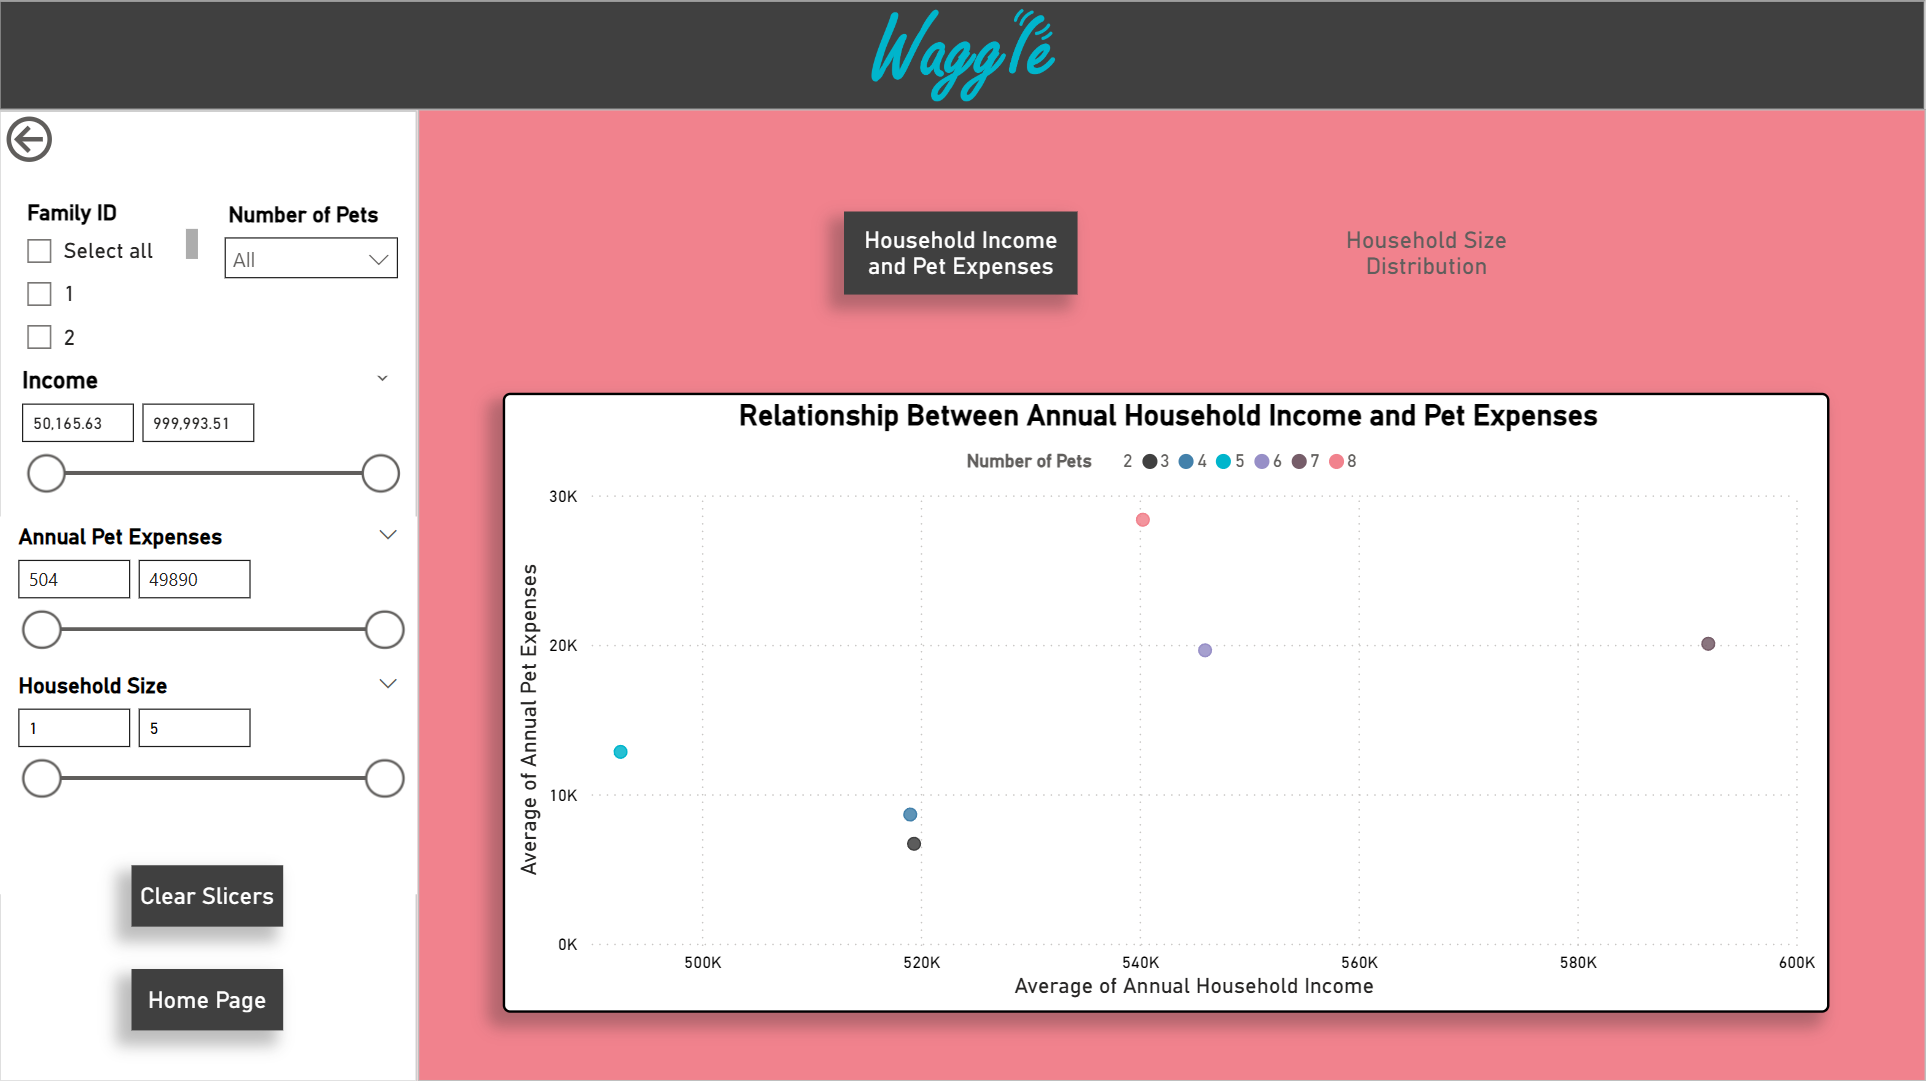

What the dashboard file says about the page in this screenshot:
{"tool":"powerbi","page":{"name":"Families Info","canvas":[1280,720],"ordinal":2},"visuals":[{"type":"group","id":"g1","title":"Background/Banner","box":[0,1,1280.2,719.2],"z":0},{"type":"shape","box":[277.9,73.5,1002.3,646.2],"z":0,"group":"g1"},{"type":"slicer","fields":{"Values":["Family_Data.Household_Income"]},"box":[2.9,239.7,271.7,153.7],"z":0,"group":"g2"},{"type":"shape","box":[0,1,1280,73],"z":1000,"group":"g1"},{"type":"group","id":"g2","title":"Slicers Side","box":[0,73.4,277.5,612],"z":1000},{"type":"slicer","fields":{"Values":["Family_Data.Annual_Pet_Expenses"]},"box":[0,344.2,277.5,151.8],"z":1000,"group":"g2"},{"type":"shape","box":[0,74.4,277.9,645.8],"z":2000,"group":"g1"},{"type":"slicer","fields":{"Values":["Family_Data.Total_Pets"]},"box":[139.2,129.6,135.3,120.8],"z":2000,"group":"g2"},{"type":"image","box":[426.9,1,426.9,73],"z":3000,"group":"g1"},{"type":"slicer","fields":{"Values":["Family_Data.Family_ID"]},"box":[5.8,129.1,131.5,117.9],"z":3000,"group":"g2"},{"type":"actionButton","title":"Distribution Off","box":[870.4,141.3,156.4,54.6],"z":3000},{"type":"actionButton","title":"Back Button","box":[0,73.4,99.6,40.2],"z":4500,"group":"g3"},{"type":"slicer","fields":{"Values":["Family_Data.Household_Size"]},"box":[0,443.3,277.5,151.8],"z":5000,"group":"g2"},{"type":"actionButton","title":"Next Page","box":[88,644.8,100.5,40.6],"z":5000,"group":"g3"},{"type":"group","id":"g3","title":"Buttons","box":[0,73.4,188.5,612],"z":5500,"group":"g2"},{"type":"actionButton","title":"Household On","box":[561.9,141.6,155.5,55.1],"z":5500},{"type":"actionButton","title":"Clear","box":[88,576.1,100.5,40.6],"z":5500,"group":"g3"},{"type":"scatterChart","title":"Relationship Between Annual Household Income and Pet Expenses","fields":{"X":["Family_Data.Household_Income"],"Y":["Family_Data.Annual_Pet_Expenses"],"Series":["Family_Data.Total_Pets"]},"box":[334.4,261.9,881.7,411.7],"z":6000}]}

Visuals, with their boxes in screenshot pixels (x1, y1, x2, y2), scaled from the page's 1280x720 canvas onto the 1926x1081 screenshot:
"Background/Banner" group: rect(0, 2, 1925, 1080)
shape: rect(418, 110, 1925, 1080)
slicer - Family_Data.Household_Income: rect(4, 360, 413, 591)
shape: rect(0, 2, 1925, 111)
"Slicers Side" group: rect(0, 110, 418, 1029)
slicer - Family_Data.Annual_Pet_Expenses: rect(0, 517, 418, 745)
shape: rect(0, 112, 418, 1080)
slicer - Family_Data.Total_Pets: rect(209, 195, 413, 376)
image: rect(642, 2, 1285, 111)
slicer - Family_Data.Family_ID: rect(9, 194, 207, 371)
"Distribution Off" actionButton: rect(1310, 212, 1545, 294)
"Back Button" actionButton: rect(0, 110, 150, 171)
slicer - Family_Data.Household_Size: rect(0, 666, 418, 893)
"Next Page" actionButton: rect(132, 968, 284, 1029)
"Buttons" group: rect(0, 110, 284, 1029)
"Household On" actionButton: rect(845, 213, 1079, 295)
"Clear" actionButton: rect(132, 865, 284, 926)
"Relationship Between Annual Household Income and Pet Expenses" scatterChart: rect(503, 393, 1830, 1011)
